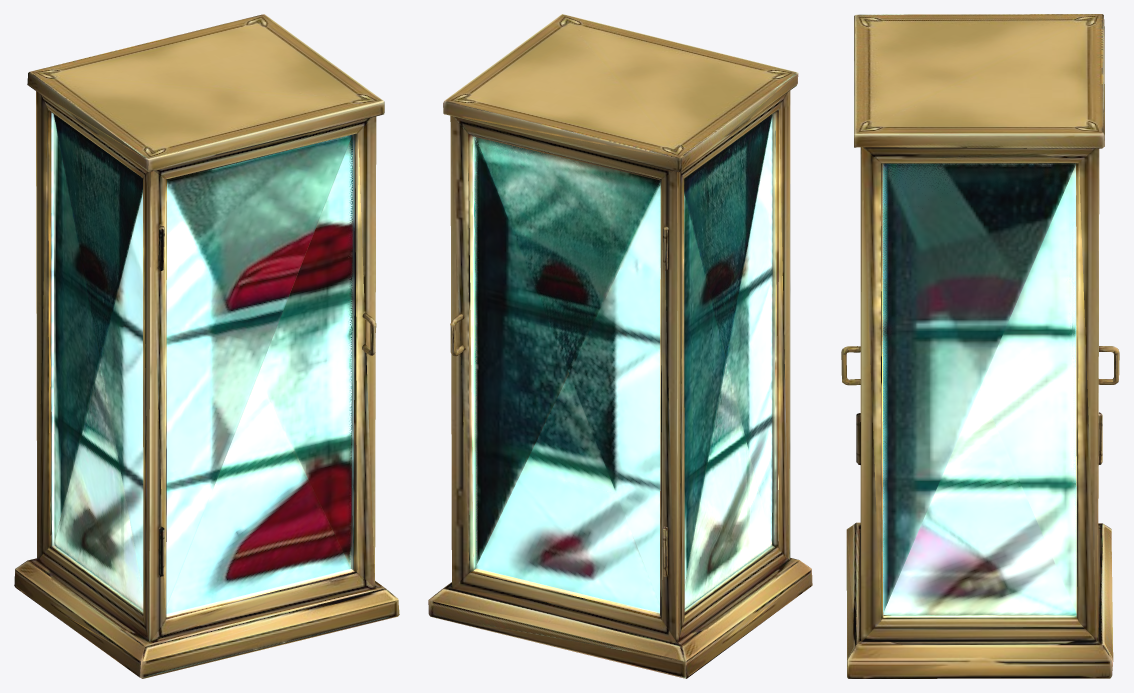
File: display_case.glb
The picture shows the model from 3 angles, left to right: view 1: azimuth 30°, elevation 25°; view 2: azimuth 150°, elevation 25°; view 3: azimuth 270°, elevation 25°; orthographic projection. The views are drawn at different scales.
Size of the model in its own units: 0.5254 by 1 by 0.4678.
1 material, 1 textured.
